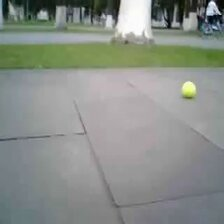tennis: (181, 81, 196, 98)
